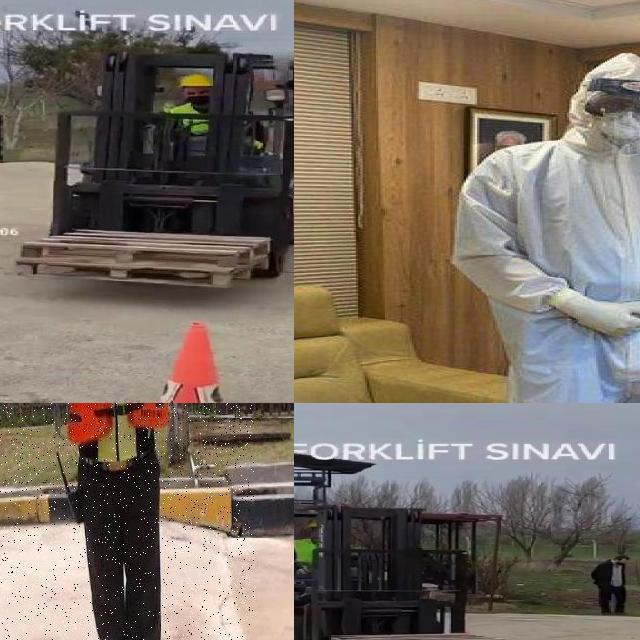Glove: (542, 287, 640, 337)
MASK: (578, 109, 640, 139)
VEST: (66, 403, 171, 473)
